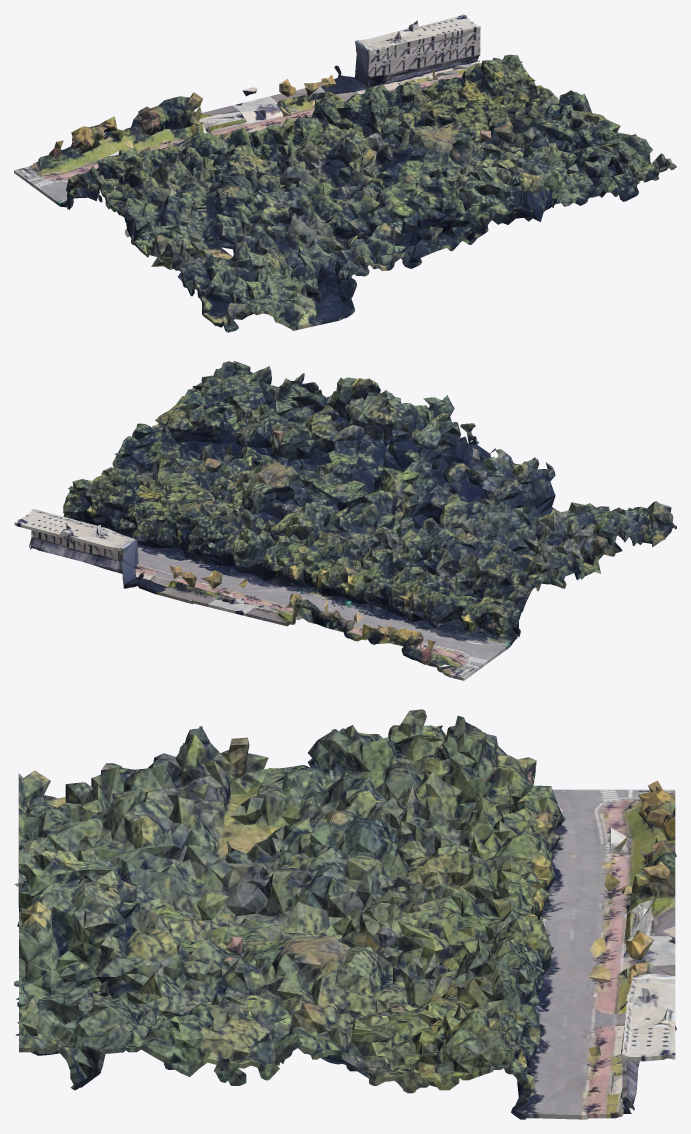
File: Split12.fbx
3 views of the same model, one above another, from view 1: azimuth 30°, elevation 25°; view 2: azimuth 150°, elevation 25°; view 3: azimuth 270°, elevation 25° (orthographic). The views are drawn at different scales.
Visible parts, largest first — view 1: BuildingMesh-00078; view 2: BuildingMesh-00078; view 3: BuildingMesh-00078.
Part boxes in pixels (left/top/right/bottom): BuildingMesh-00078: left=14, top=14, right=676, bottom=332; BuildingMesh-00078: left=14, top=361, right=676, bottom=680; BuildingMesh-00078: left=14, top=709, right=676, bottom=1119.
Bounding box in the file's own units: 196 × 40.01 × 161.
7 materials, 7 textured.
